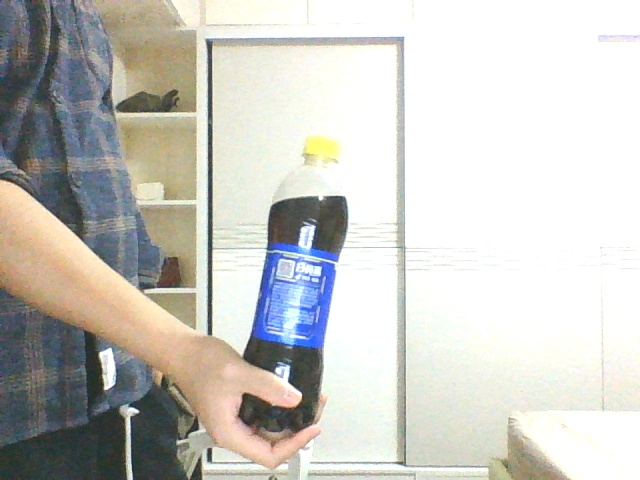Cola: (239, 138, 349, 430)
